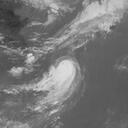cyclone: (44, 60, 79, 95)
